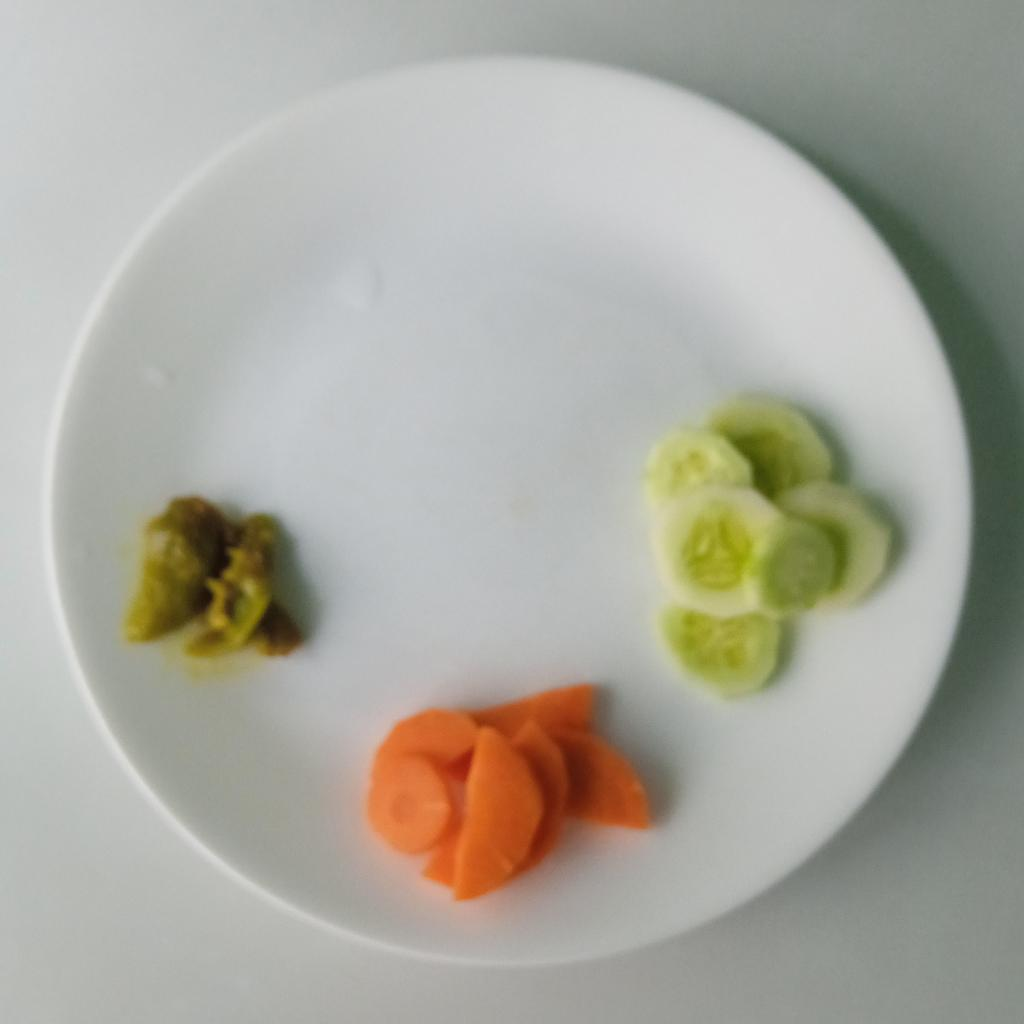carrot: (362, 683, 647, 901)
cucumber: (642, 396, 892, 694)
dundol: (117, 489, 303, 660)
